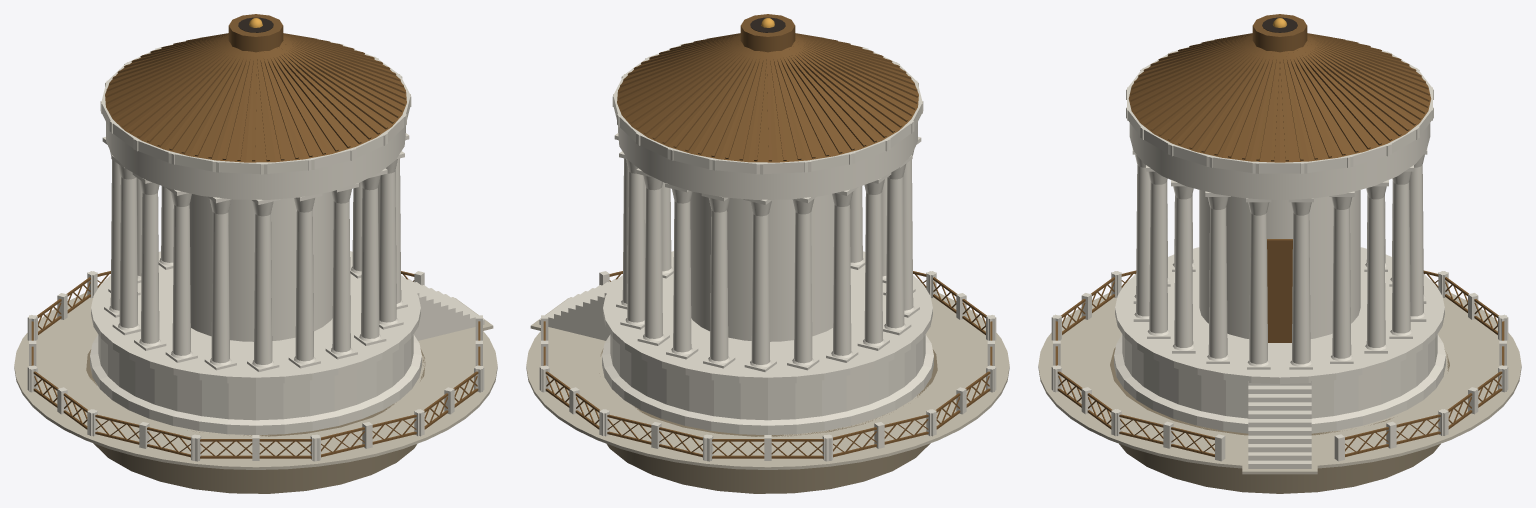
The model's file is rome_vesta.glb.
3 renders of one model, left to right at view 1: azimuth 30°, elevation 25°; view 2: azimuth 150°, elevation 25°; view 3: azimuth 270°, elevation 25°, orthographic.
Parts seen in each view (by area): view 1: rome_vesta; view 2: rome_vesta; view 3: rome_vesta.
Part boxes in pixels (x1=…): rome_vesta: x1=14, y1=14, x2=497, y2=493; rome_vesta: x1=526, y1=14, x2=1009, y2=493; rome_vesta: x1=1038, y1=14, x2=1521, y2=493.
Size of the model in its own units: 23.5 by 21.19 by 23.
